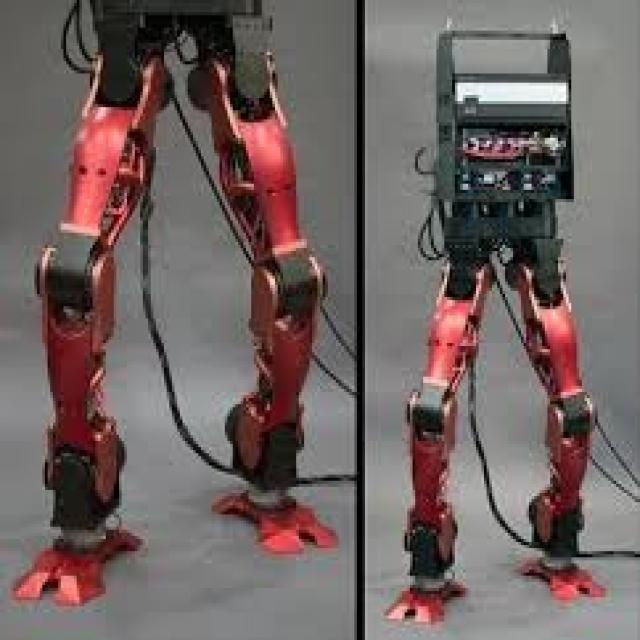humanoid-leg: (11, 241, 140, 611), (218, 274, 342, 551), (382, 398, 467, 627), (529, 411, 610, 600)
